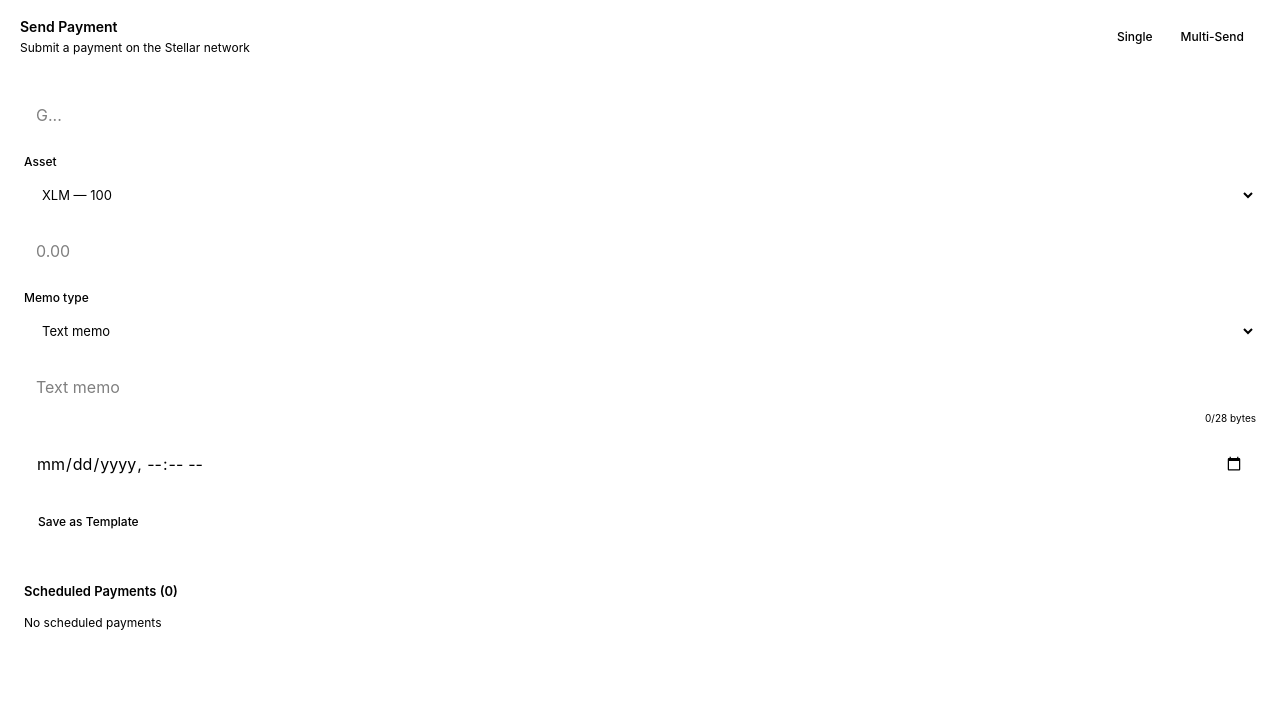
Test case: TransactionPanel › Multi-Send feature (#1147) › switches to Multi-Send mode when the tab is clicked
The width and height of the screenshot is (1280, 720).
What coordinates should you click on to do the following:
click the tab with test id "tab-multi-send"
I would click on:
 (1212, 36)
Its box is [1168, 24, 1256, 50].
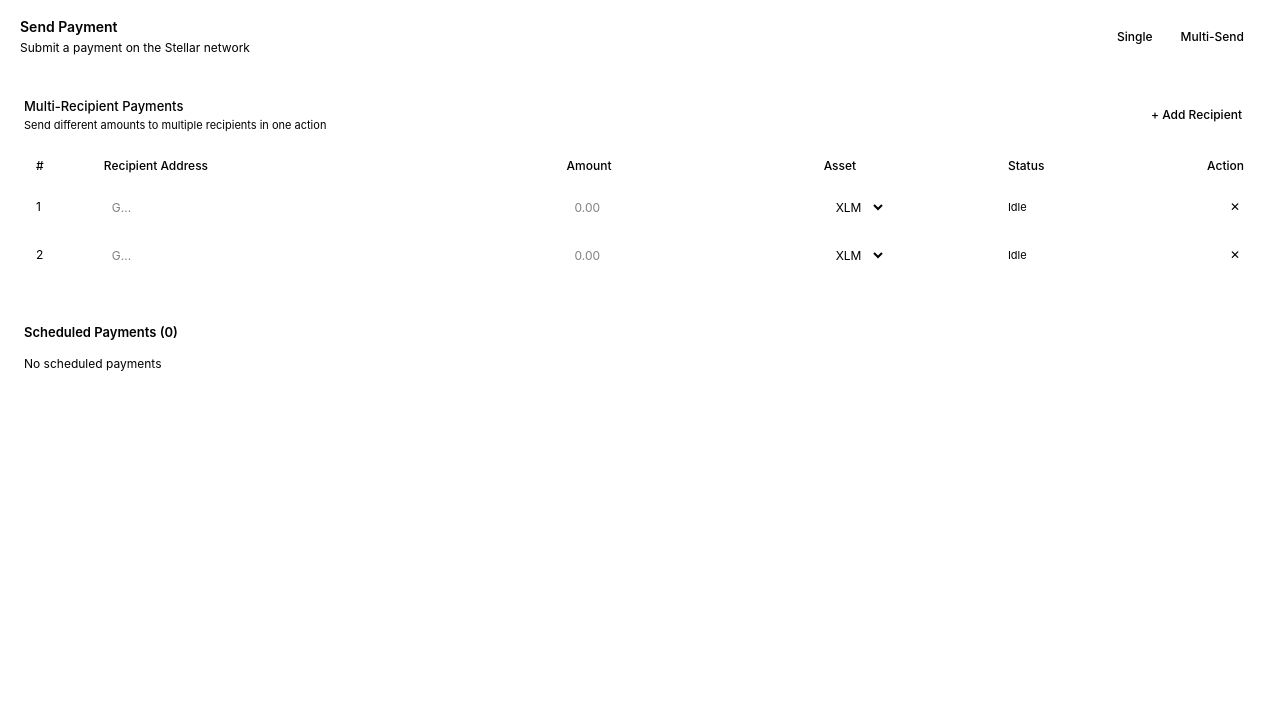
Expected: the table with test id "multi-send-table" is shown, [24, 149, 1256, 279]
Expected: the text "Multi-Recipient Payments" is shown, [24, 98, 183, 114]
